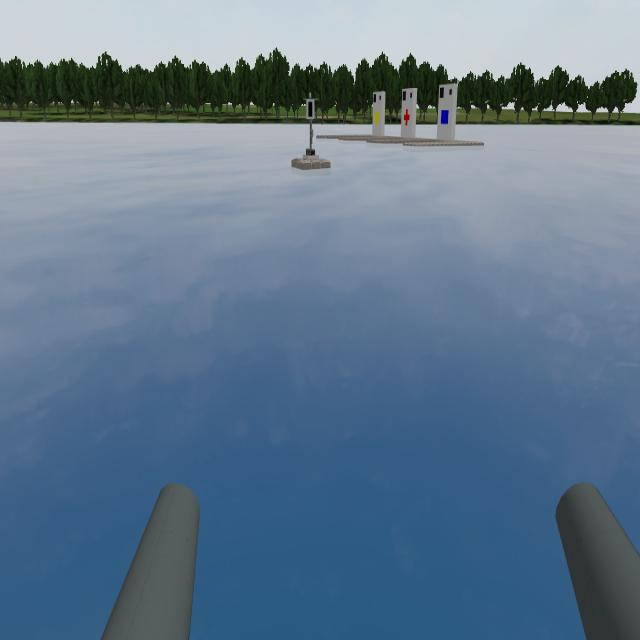black_pole: (302, 90, 322, 128)
